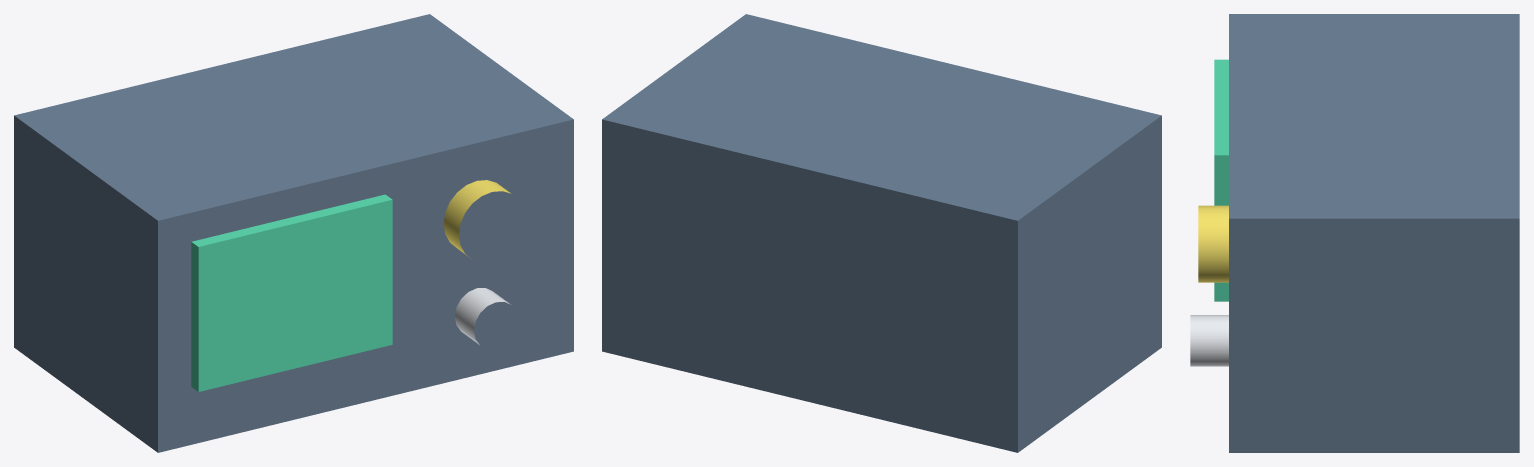
File: heterodyne_spectrum_analyzer.glb
3 renders of one model, left to right at view 1: azimuth 30°, elevation 25°; view 2: azimuth 150°, elevation 25°; view 3: azimuth 270°, elevation 25°, orthographic.
Parts seen in each view (by area): view 1: SpectrumAnalyzerMainframe, CRTGraticuleSpectralDisplay, SweptLocalOscillatorMixerDial, RFInputPrecisionAttenuator; view 2: SpectrumAnalyzerMainframe; view 3: SpectrumAnalyzerMainframe, CRTGraticuleSpectralDisplay, SweptLocalOscillatorMixerDial, RFInputPrecisionAttenuator.
Part boxes in pixels (x1=…): SpectrumAnalyzerMainframe: x1=14, y1=14, x2=573, y2=452; CRTGraticuleSpectralDisplay: x1=191, y1=194, x2=392, y2=391; SweptLocalOscillatorMixerDial: x1=443, y1=180, x2=510, y2=256; RFInputPrecisionAttenuator: x1=454, y1=288, x2=510, y2=344; SpectrumAnalyzerMainframe: x1=602, y1=14, x2=1161, y2=452; SpectrumAnalyzerMainframe: x1=1229, y1=14, x2=1519, y2=452; CRTGraticuleSpectralDisplay: x1=1214, y1=59, x2=1228, y2=301; SweptLocalOscillatorMixerDial: x1=1198, y1=205, x2=1228, y2=282; RFInputPrecisionAttenuator: x1=1190, y1=315, x2=1228, y2=366.
Size of the model in its own units: 1.5 by 0.8 by 1.02.
